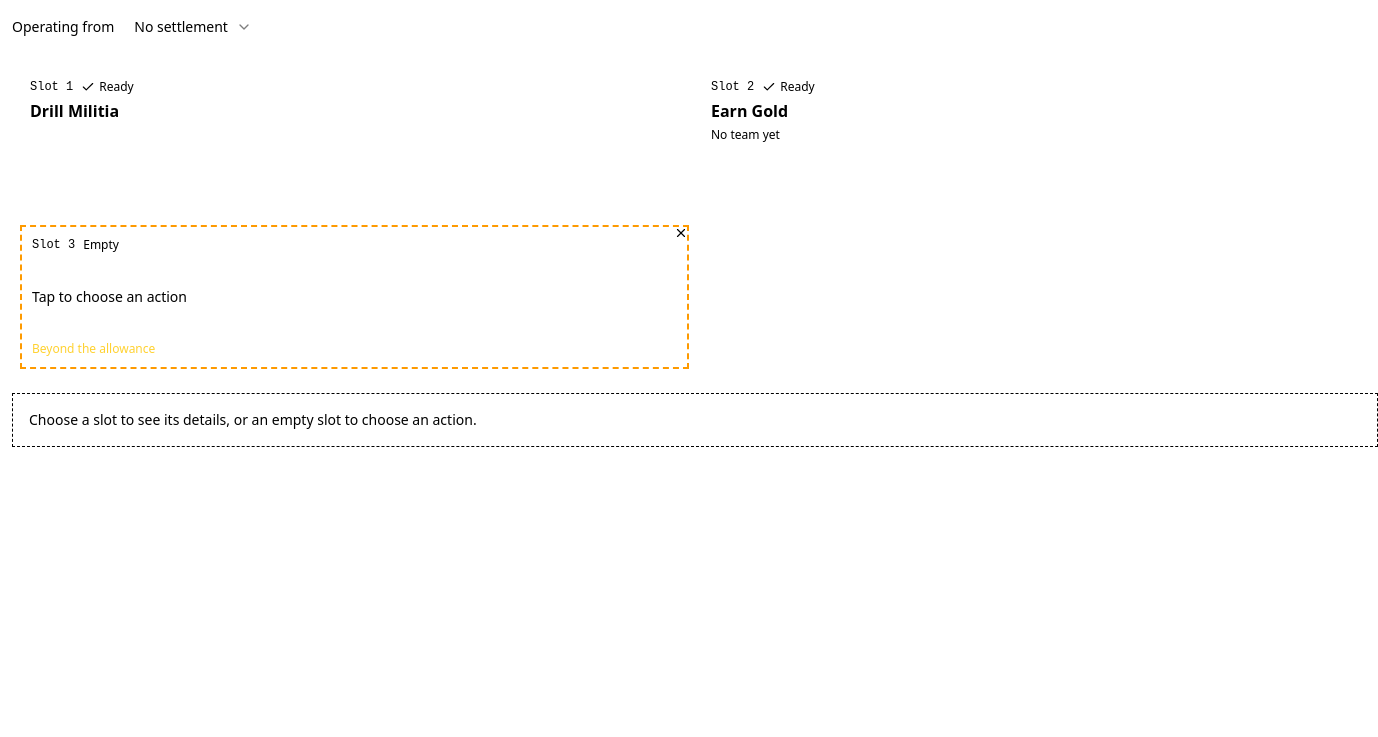
Test: selected details › [rules.ACT-12.helpful-failure] a failed clear stops the move; a failed assignment reports the partial result and retries
Click the button "Slot 2 Ready Earn Gold No team yet" at (729, 87), box [701, 69, 1370, 213]
(page scrolled)
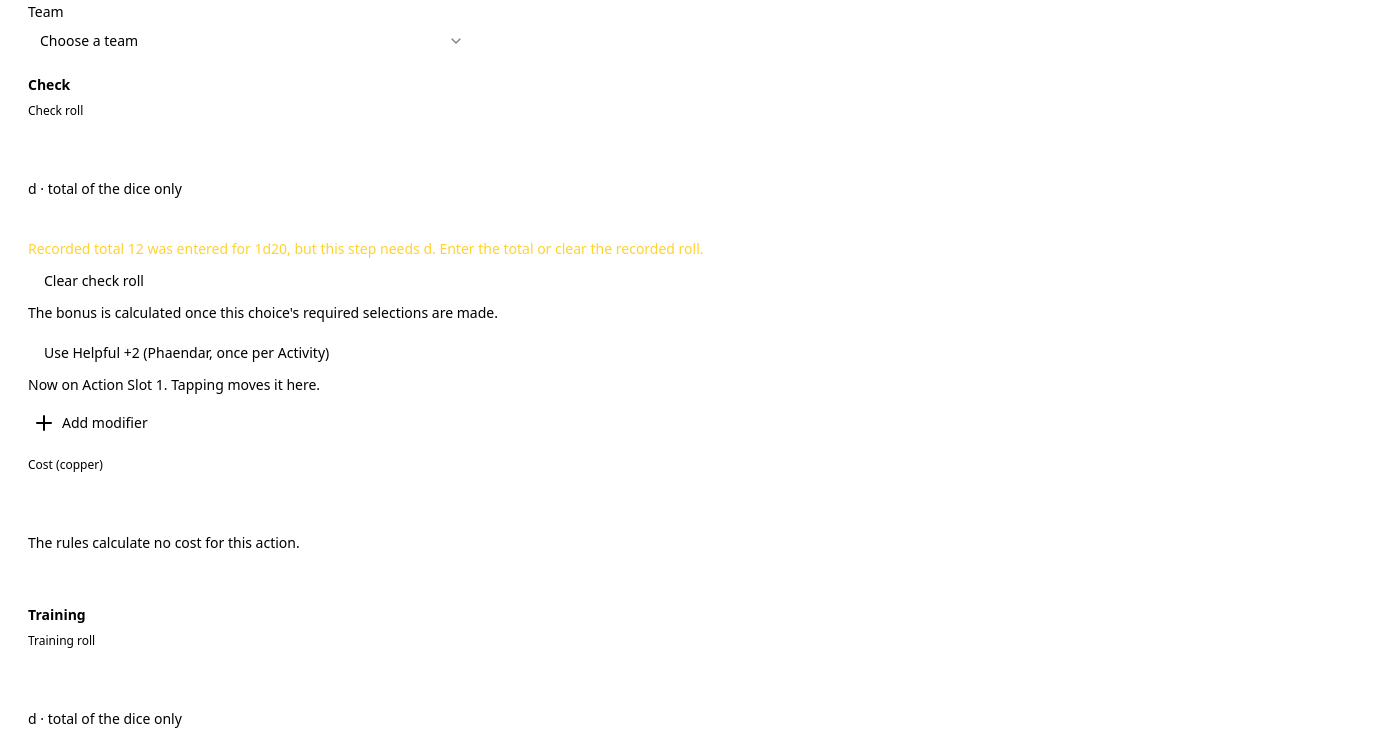
Click the button "Use Helpful +2 (Phaendar, once per Activity)" at (187, 353), box [28, 335, 345, 371]
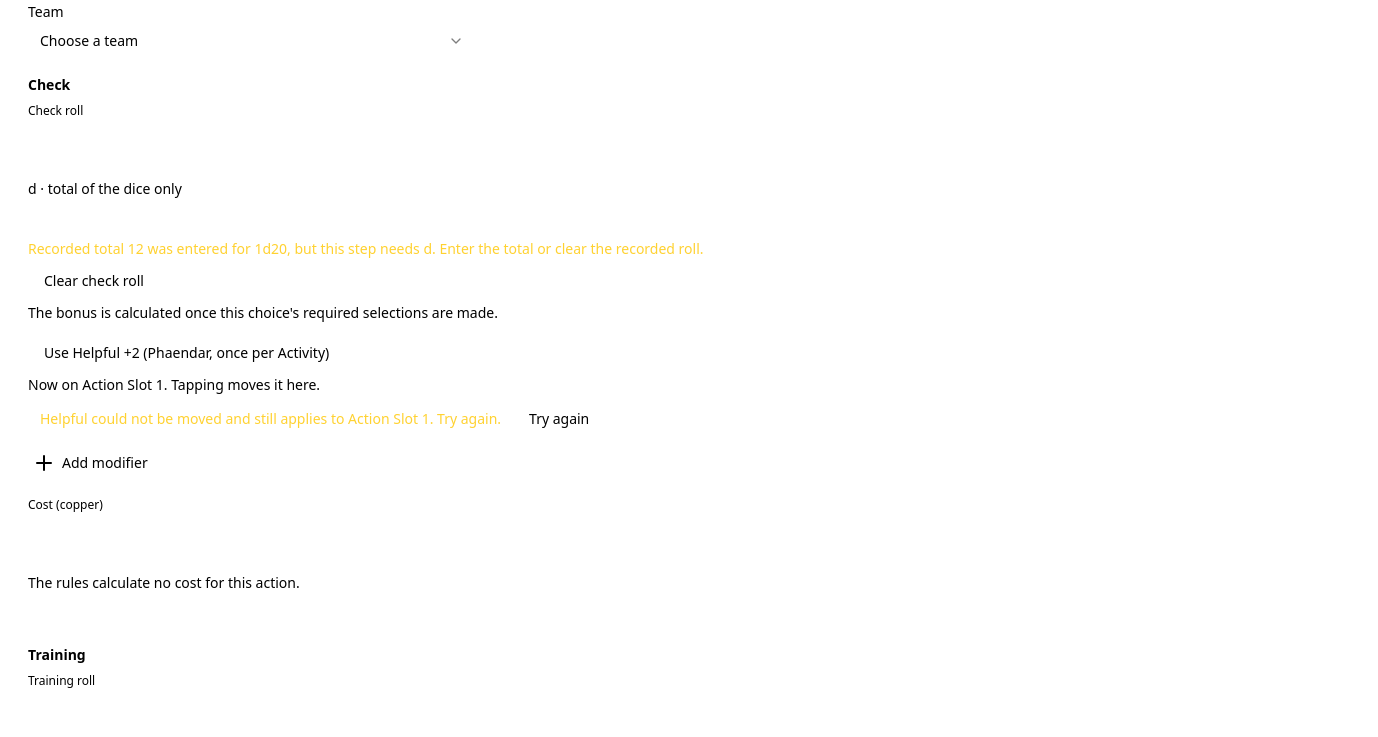
Check: the text "Helpful could not be moved and still applies to Action Slot 1. Try again." is shown, box [40, 409, 501, 428]
Click the button "Try again" at (559, 419), box [517, 403, 601, 435]
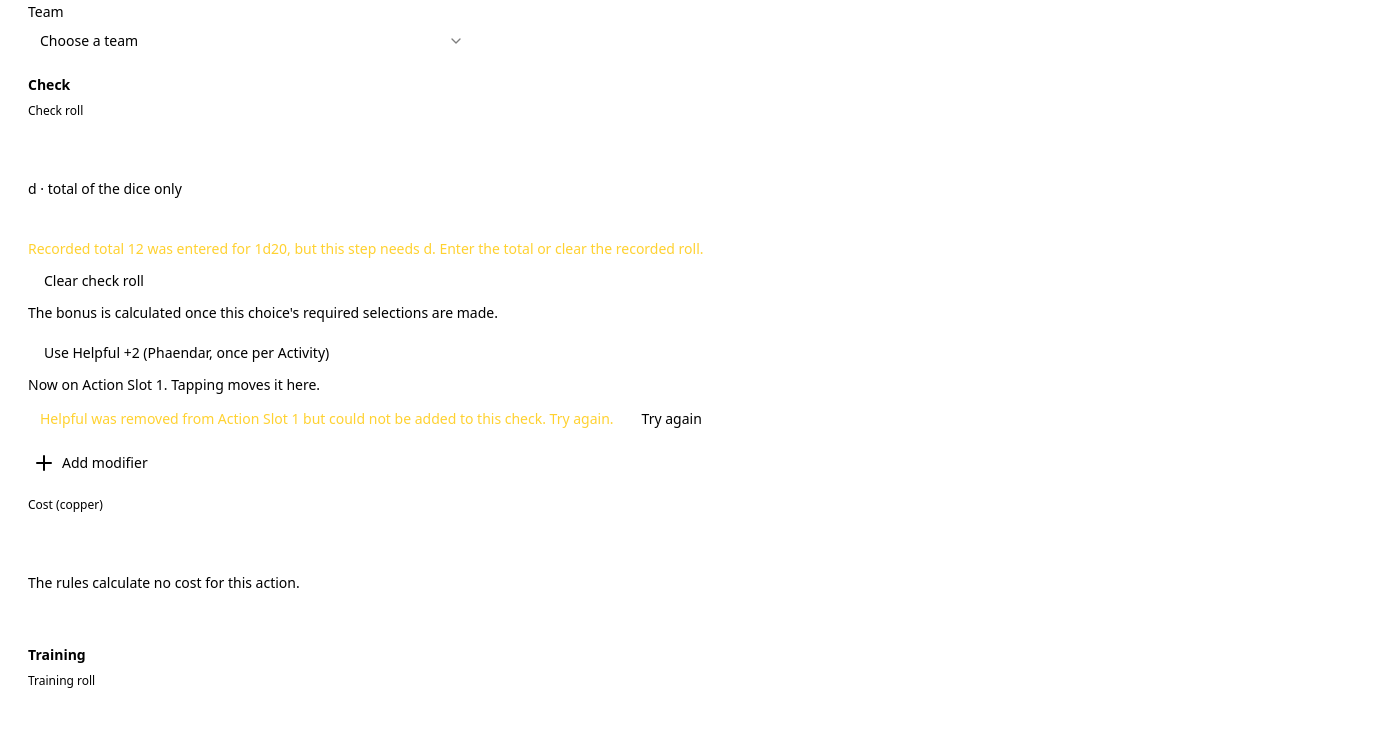
Check: the text "Helpful was removed from Action Slot 1 but could not be added to this check. Try again." is shown, box [40, 409, 614, 428]
